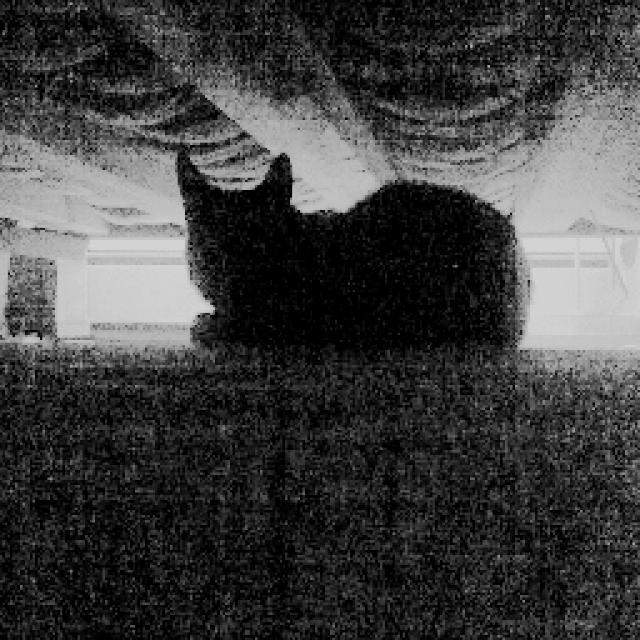cat: (153, 132, 536, 396)
